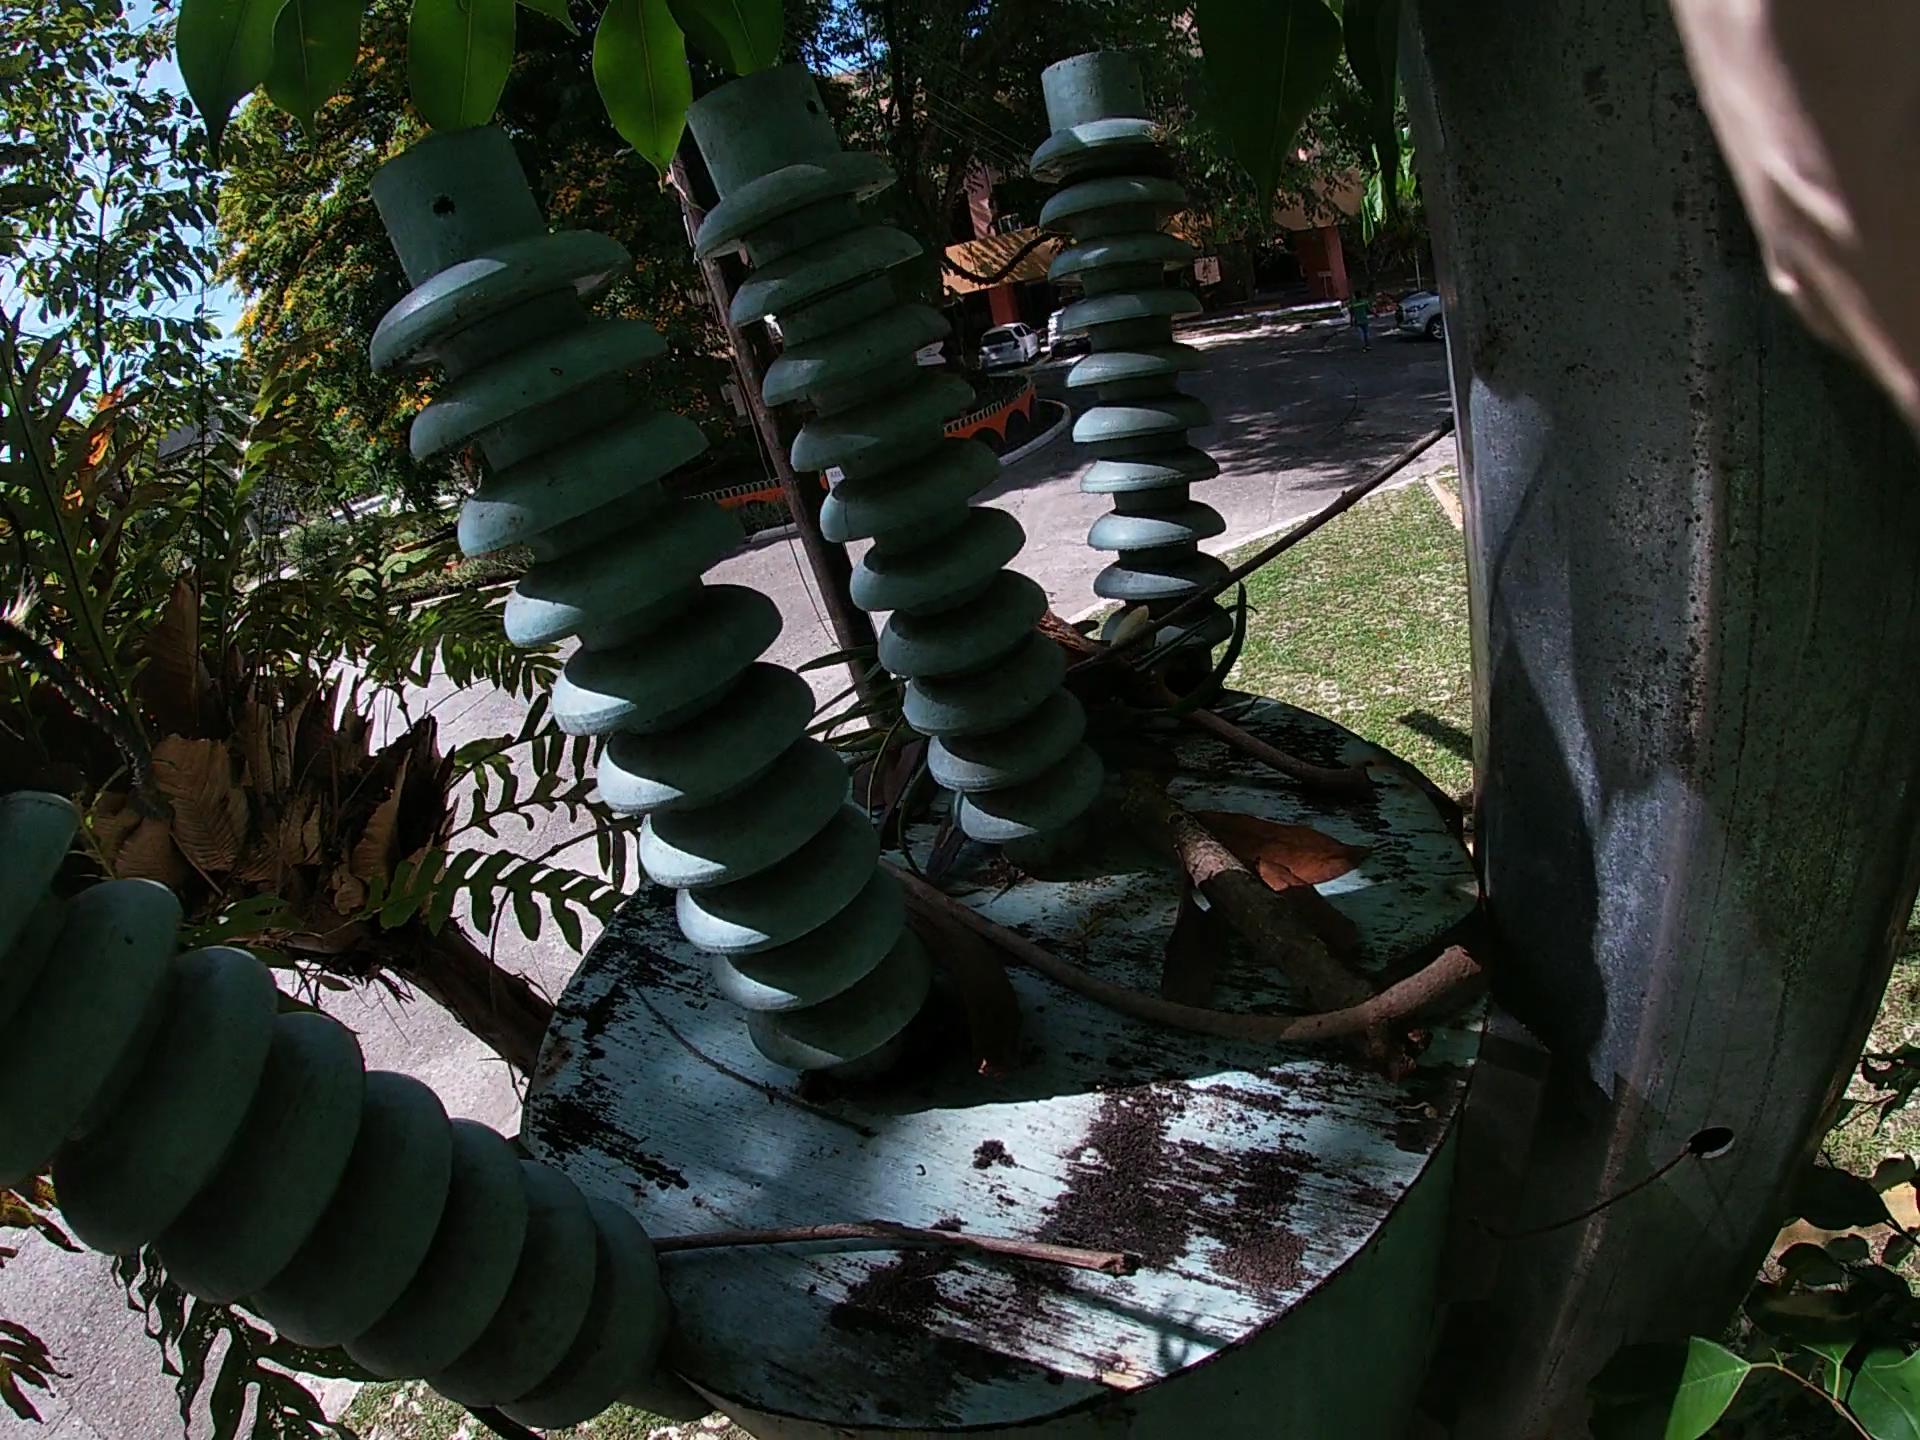branch with leaves: (928, 504, 1463, 1193)
leaf: (1169, 777, 1404, 1095)
tree branch: (957, 321, 1618, 855), (813, 815, 1559, 1024), (1114, 626, 1429, 846), (639, 1222, 1141, 1262)
